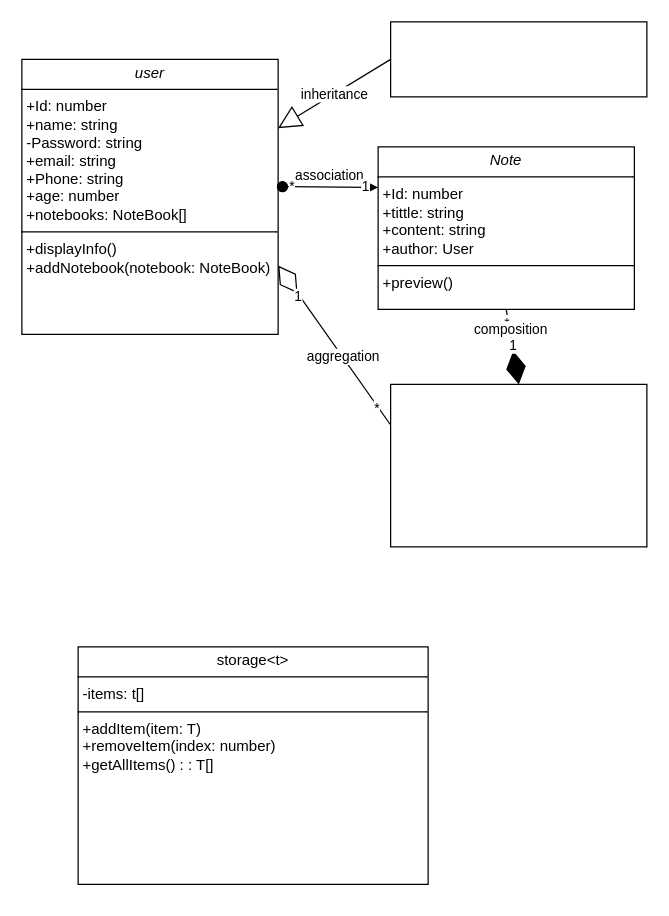
This 669x916 diagram has some shape labels left out. The shapes that lost their labels are listed below. From the top down, each one's box as (x1, y1, x2, y2) in pixels, then its label:
(389, 21, 647, 97): Admin +manageNotes()
(389, 383, 647, 547): NoteBook -notes: Note[] +addNote(note: Note) +removeNote(Id: number)
